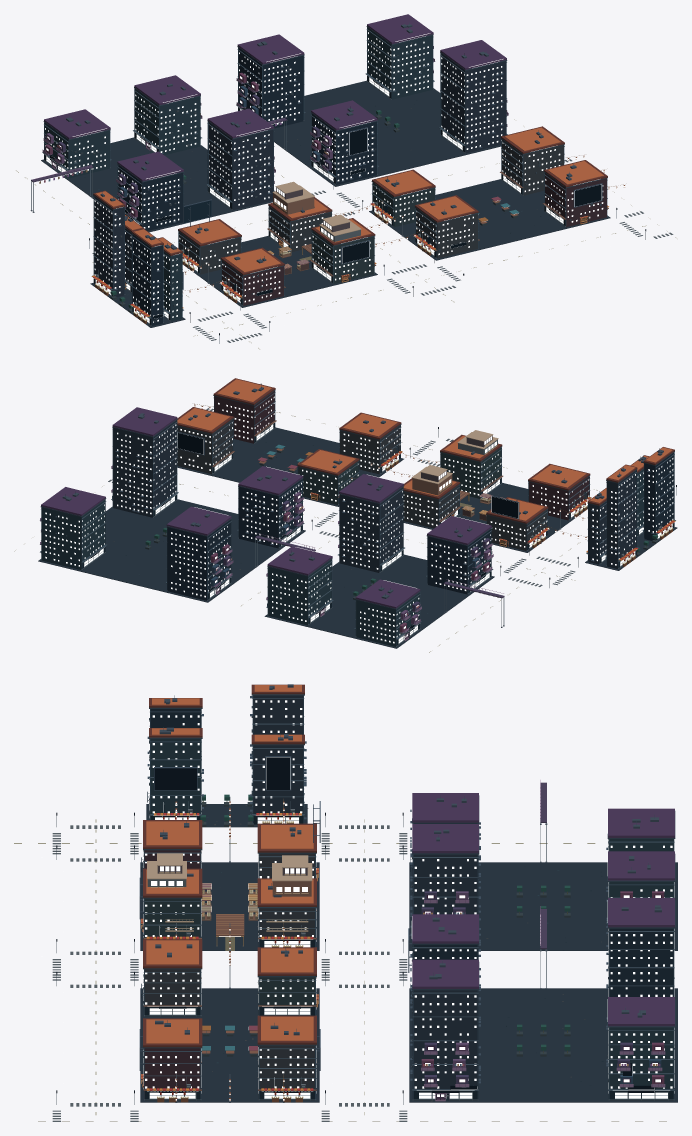
The model's file is neon_market_district.glb.
3 views of the same model, one above another, from view 1: azimuth 30°, elevation 25°; view 2: azimuth 150°, elevation 25°; view 3: azimuth 270°, elevation 25° (orthographic). The views are drawn at different scales.
Parts seen in each view (by area): view 1: ND_WEST / outer 03 / block -01 / pavement, ND_WEST / outer 02 / block +00 / solid, ND_WEST / outer 03 / block +03 / pavement, ND_WEST / outer 05 / block +00 / solid, ND_WEST / outer 05 / block -01 / pavement, ND_WEST / outer 04 / block -02 / solid, ND_WEST / outer 02 / block -02 / solid, ND_WEST / outer 07 / block +04 / solid, ND_WEST / outer 05 / block -02 / solid, ND_WEST / outer 07 / block +02 / solid, ND_WEST / outer 06 / block +00 / solid, ND_WEST / outer 04 / block +00 / solid (+32 smaller); view 2: ND_WEST / outer 03 / block -01 / pavement, ND_WEST / outer 05 / block -01 / pavement, ND_WEST / outer 02 / block +00 / solid, ND_WEST / outer 05 / block +00 / solid, ND_WEST / outer 04 / block -02 / solid, ND_WEST / outer 03 / block +03 / pavement, ND_WEST / outer 07 / block +02 / solid, ND_WEST / outer 02 / block -02 / solid, ND_WEST / outer 05 / block -02 / solid, ND_WEST / outer 04 / block +00 / solid, ND_WEST / outer 06 / block +00 / solid, ND_WEST / outer 07 / block +04 / solid (+37 smaller); view 3: ND_WEST / outer 03 / block -01 / pavement, ND_WEST / outer 05 / block -01 / pavement, ND_WEST / outer 03 / block +03 / pavement, ND_WEST / outer 02 / block +00 / solid, ND_WEST / outer 07 / block +02 / solid, ND_WEST / outer 04 / block -02 / solid, ND_WEST / outer 05 / block +03 / pavement, ND_WEST / outer 07 / block +04 / solid, ND_WEST / outer 05 / block +00 / solid, ND_WEST / outer 02 / block -02 / solid, ND_WEST / outer 02 / block -02 / metal, ND_WEST / outer 02 / block +00 / metal (+35 smaller).
Part boxes in pixels (box(x1,y1,x2,y2)): ND_WEST / outer 03 / block -01 / pavement: box(274, 80, 501, 186); ND_WEST / outer 02 / block +00 / solid: box(441, 53, 506, 153); ND_WEST / outer 03 / block +03 / pavement: box(369, 179, 610, 260); ND_WEST / outer 05 / block +00 / solid: box(208, 122, 273, 209); ND_WEST / outer 05 / block -01 / pavement: box(41, 137, 272, 232); ND_WEST / outer 04 / block -02 / solid: box(200, 48, 303, 128); ND_WEST / outer 02 / block -02 / solid: box(367, 28, 432, 99); ND_WEST / outer 07 / block +04 / solid: box(132, 235, 190, 325); ND_WEST / outer 05 / block -02 / solid: box(135, 89, 200, 155); ND_WEST / outer 07 / block +02 / solid: box(94, 196, 131, 296); ND_WEST / outer 06 / block +00 / solid: box(118, 165, 183, 230); ND_WEST / outer 04 / block +00 / solid: box(312, 114, 376, 184); ND_WEST / outer 03 / block -01 / pavement: box(38, 499, 305, 602); ND_WEST / outer 05 / block -01 / pavement: box(264, 554, 494, 648); ND_WEST / outer 02 / block +00 / solid: box(113, 420, 176, 517); ND_WEST / outer 05 / block +00 / solid: box(339, 487, 402, 572); ND_WEST / outer 04 / block -02 / solid: box(167, 520, 231, 600); ND_WEST / outer 03 / block +03 / pavement: box(177, 427, 403, 506); ND_WEST / outer 07 / block +02 / solid: box(577, 470, 636, 568); ND_WEST / outer 02 / block -02 / solid: box(41, 500, 104, 569); ND_WEST / outer 05 / block -02 / solid: box(268, 559, 331, 625); ND_WEST / outer 04 / block +00 / solid: box(239, 479, 302, 548); ND_WEST / outer 06 / block +00 / solid: box(427, 529, 490, 594); ND_WEST / outer 07 / block +04 / solid: box(637, 453, 673, 540); ND_WEST / outer 03 / block -01 / pavement: box(409, 988, 677, 1102); ND_WEST / outer 05 / block -01 / pavement: box(409, 862, 677, 950); ND_WEST / outer 03 / block +03 / pavement: box(140, 988, 319, 1102); ND_WEST / outer 02 / block +00 / solid: box(412, 990, 478, 1100); ND_WEST / outer 07 / block +02 / solid: box(253, 695, 325, 820); ND_WEST / outer 04 / block -02 / solid: box(607, 895, 673, 996); ND_WEST / outer 05 / block +03 / pavement: box(140, 862, 319, 950); ND_WEST / outer 07 / block +04 / solid: box(134, 709, 201, 819); ND_WEST / outer 05 / block +00 / solid: box(412, 854, 478, 914); ND_WEST / outer 02 / block -02 / solid: box(608, 1027, 673, 1099); ND_WEST / outer 02 / block -02 / metal: box(606, 997, 675, 1100); ND_WEST / outer 02 / block +00 / metal: box(412, 959, 480, 1100).
Bounding box in the file's own units: 252 × 47.12 × 222.
